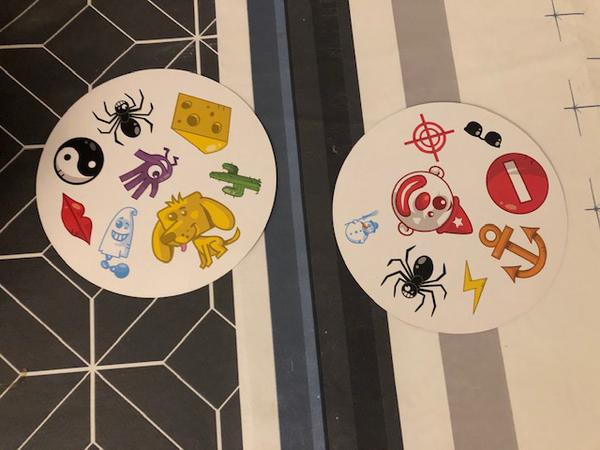ancre: (478, 219, 550, 282)
araignee: (378, 243, 451, 317), (91, 87, 157, 147)
bonhomme_neige: (341, 209, 381, 247)
bouche: (56, 194, 99, 241)
cactus: (206, 159, 260, 200)
chien: (149, 187, 243, 270)
cible: (399, 111, 454, 161)
clown: (382, 164, 479, 235)
dooble: (116, 143, 182, 201)
eclair: (459, 259, 488, 316)
fantome: (96, 202, 140, 276)
fromage: (166, 86, 237, 157)
lunette: (460, 114, 505, 152)
sens_interdit: (484, 152, 553, 214)
ying_yang: (46, 133, 108, 189)
